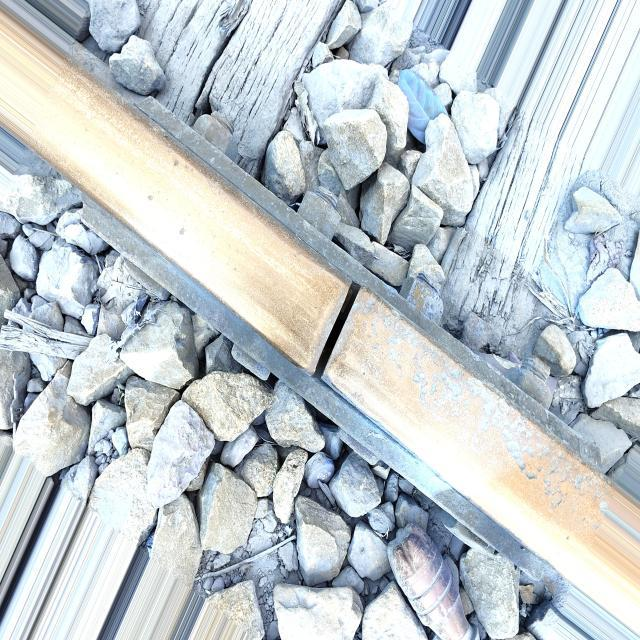Good Joint: (73, 89, 603, 584)
